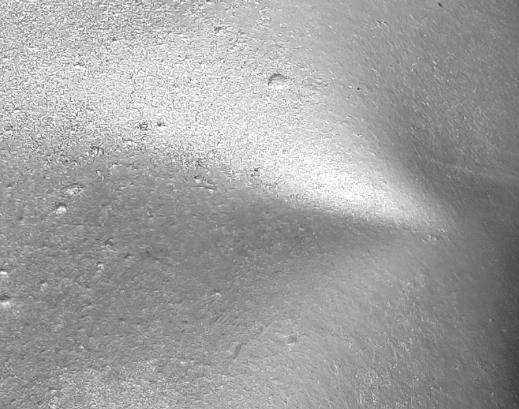dent: (1, 0, 519, 409)
